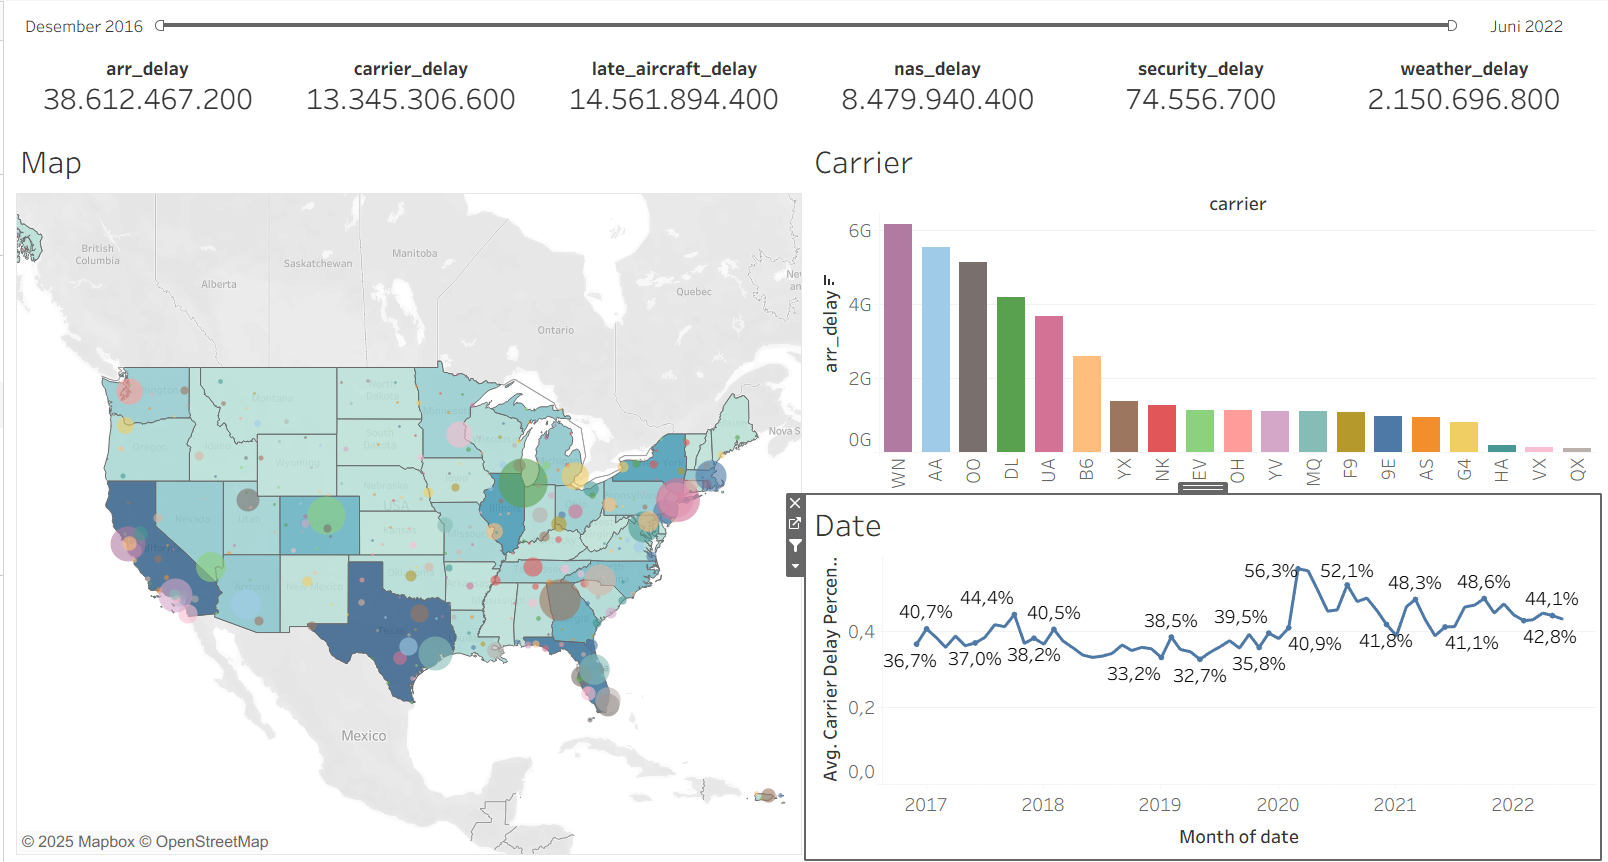

What the dashboard file says about the page in this screenshot:
{"tool":"tableau","page":{"name":"Dashboard US Airline Delay","canvas":[1000,1000],"units":"permille","ordinal":0},"visuals":[{"type":"title","box":[6.9,14.7,986.1,77.2]},{"type":"filter","title":"Date","param":"[federated.0avz5u80lvr4ny1eg59m90x3x6h4].[tmn:date:qk]","box":[6.9,91.9,986.1,47.3]},{"type":"worksheet","title":"Total Delay","mark":"Automatic","box":[6.9,139.2,986.1,98.2]},{"type":"worksheet","title":"Map","mark":"Automatic","box":[6.9,237.4,493.1,747.9]},{"type":"worksheet","title":"Carrier","mark":"Automatic","rows":["arr_delay"],"cols":["carrier"],"box":[500,237.4,493.1,373.9]},{"type":"worksheet","title":"Date","mark":"Automatic","rows":["Calculation_796574237731917824"],"cols":["date"],"box":[500,611.4,493.1,373.9]}]}

Visuals, with their boxes on the dashboard's canvas, which has no fixed pixel size, in thousandths of its width and height (x1, y1, x2, y2). These are canvas units, not pixel positions in the 1608x862 screenshot, which may show the page scaled, cropped or inside an application window:
title: Rect(7, 15, 993, 92)
"Date" filter: Rect(7, 92, 993, 139)
"Total Delay" worksheet: Rect(7, 139, 993, 237)
"Map" worksheet: Rect(7, 237, 500, 985)
"Carrier" worksheet: Rect(500, 237, 993, 611)
"Date" worksheet: Rect(500, 611, 993, 985)
